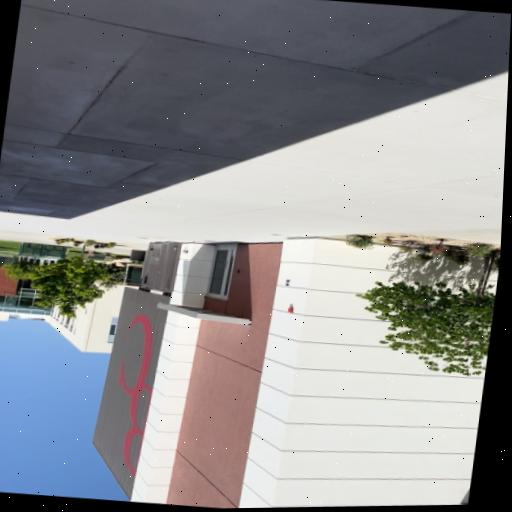target2: (285, 280, 290, 286)
